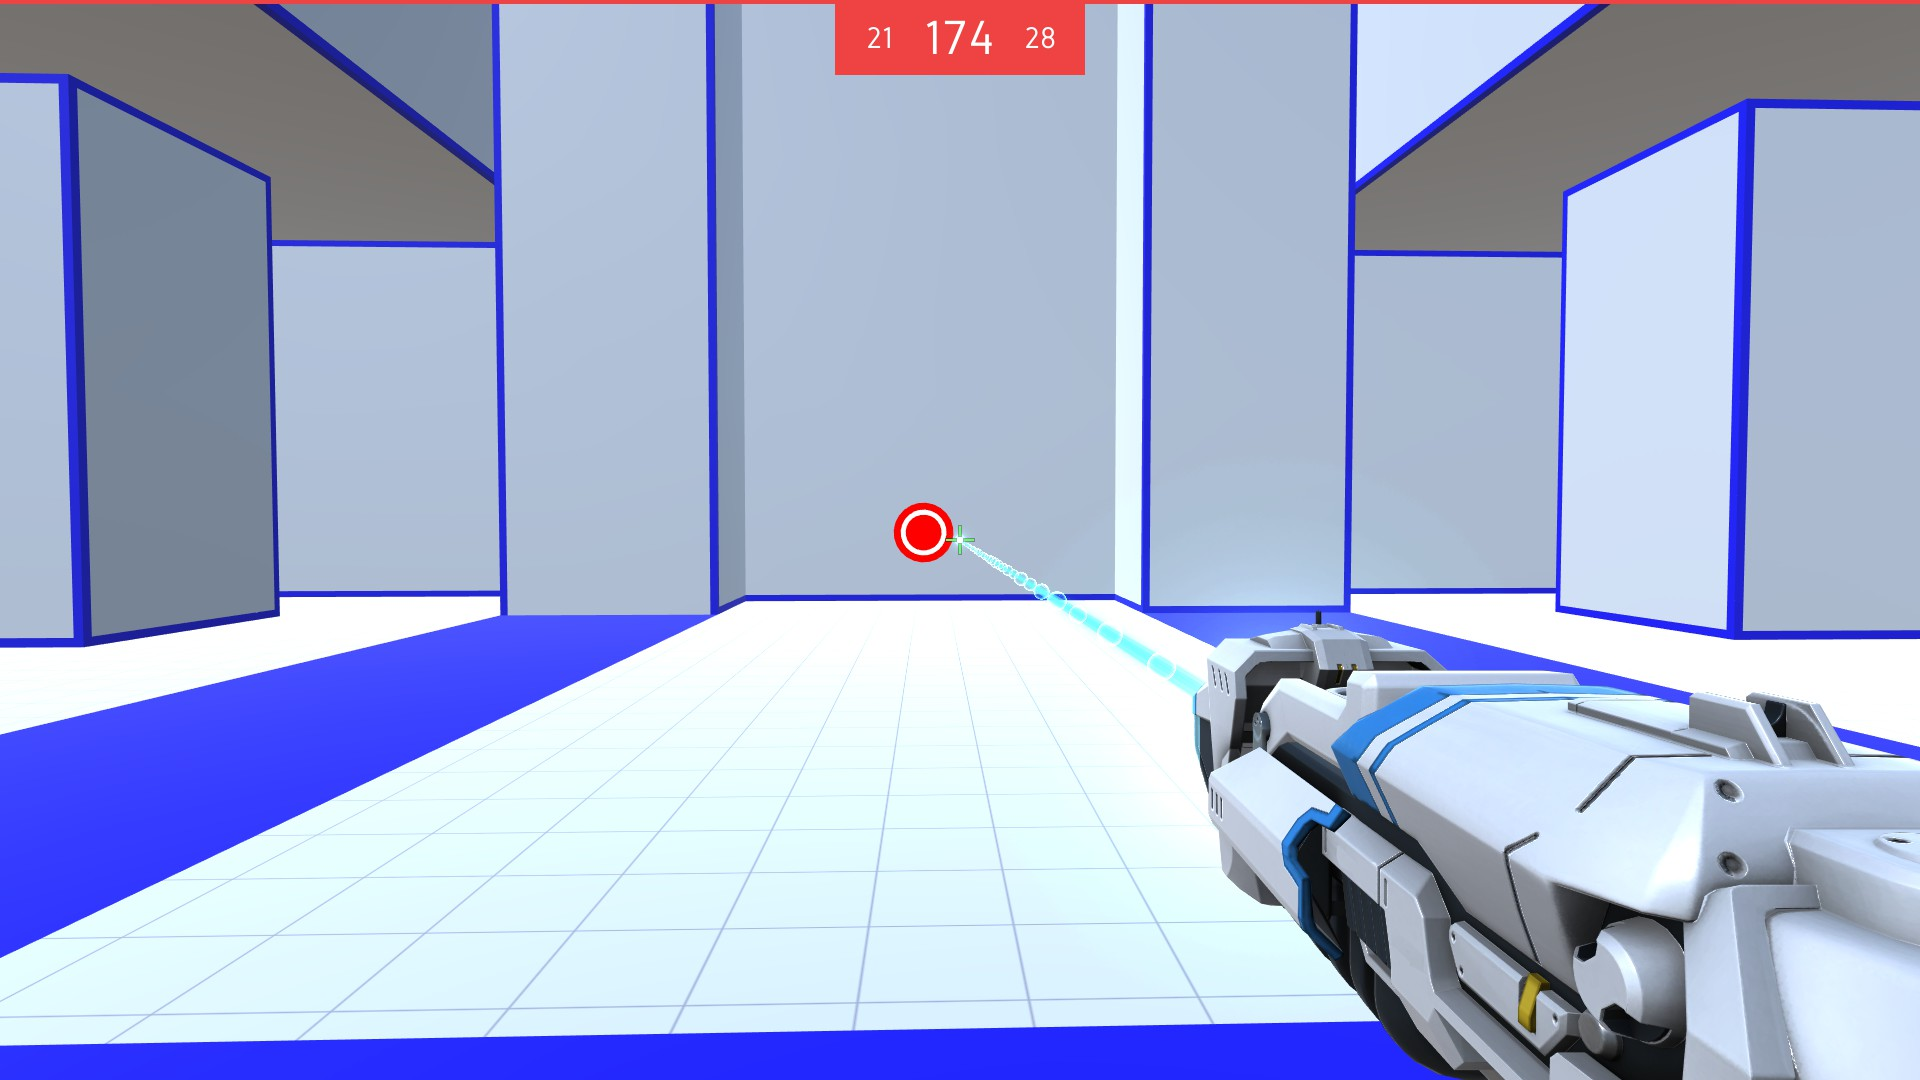target: (893, 501, 960, 566)
